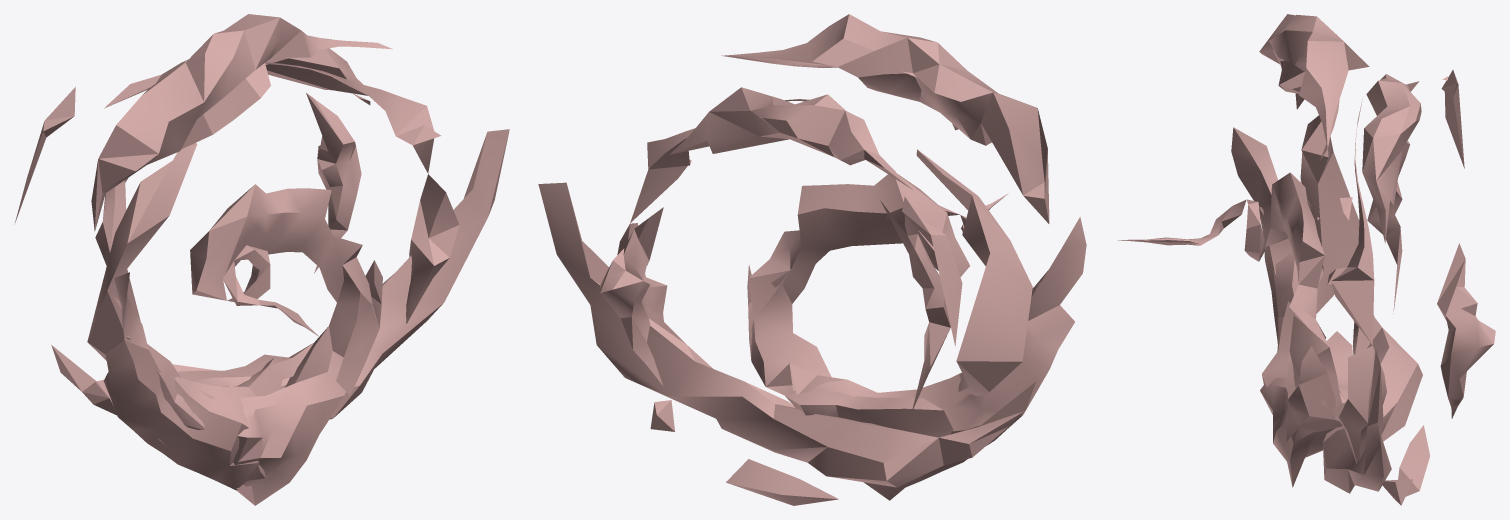
The model's file is Prop.Volcanic.Smoke.fbx.
The picture shows the model from 3 angles, left to right: view 1: azimuth 30°, elevation 25°; view 2: azimuth 150°, elevation 25°; view 3: azimuth 270°, elevation 25°; orthographic projection. The views are drawn at different scales.
Visible parts, largest first — view 1: Prop.Volcanic.Smoke; view 2: Prop.Volcanic.Smoke; view 3: Prop.Volcanic.Smoke.
Boxes of the visible parts, x1,y1,x2,y2 form: Prop.Volcanic.Smoke: (14, 14, 509, 505); Prop.Volcanic.Smoke: (538, 14, 1086, 505); Prop.Volcanic.Smoke: (1118, 14, 1495, 505).
Bounding box in the file's own units: 64114 × 61477 × 46002.
